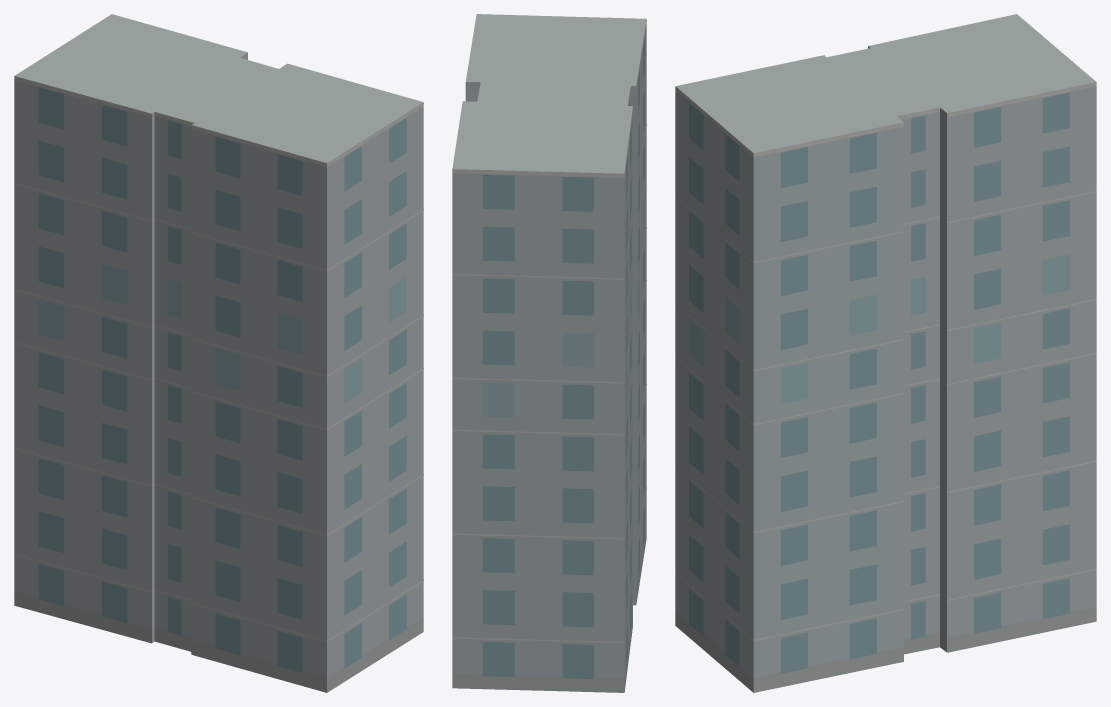
The model's file is survey-upis-32735368.glb.
3 views of the same model, side by side, from view 1: azimuth 30°, elevation 25°; view 2: azimuth 150°, elevation 25°; view 3: azimuth 270°, elevation 25° (orthographic). The views are drawn at different scales.
Parts seen in each view (by area): view 1: survey-upis-32735368.tmp; view 2: survey-upis-32735368.tmp; view 3: survey-upis-32735368.tmp.
Part boxes in pixels (<box>): survey-upis-32735368.tmp: <box>14,14,423,692</box>; survey-upis-32735368.tmp: <box>452,14,646,692</box>; survey-upis-32735368.tmp: <box>675,14,1096,692</box>.
Size of the model in its own units: 17.07 by 30.8 by 21.81.
